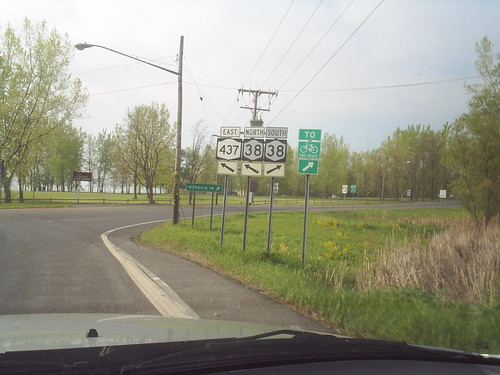grass: (178, 216, 500, 353)
road: (1, 198, 436, 375)
sign: (263, 122, 292, 178), (239, 124, 268, 180), (215, 128, 245, 177), (297, 126, 321, 176)
sky: (82, 1, 500, 124)
tree: (1, 28, 60, 209), (449, 100, 500, 240), (124, 105, 177, 196)
